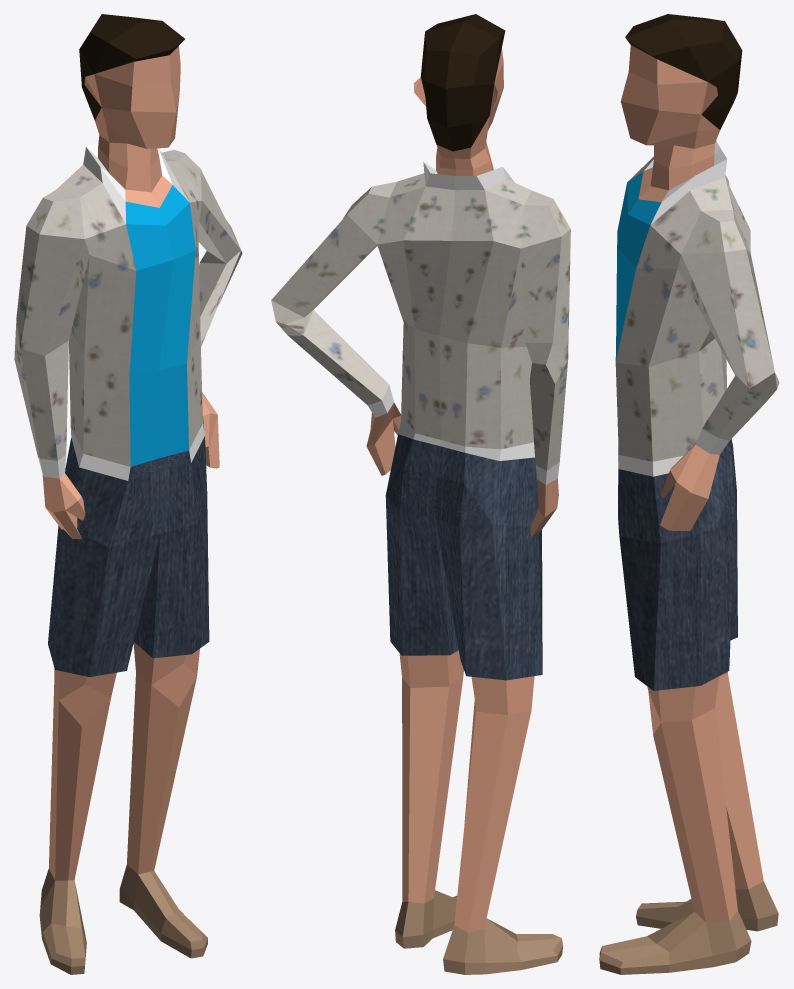
The model's file is SpringManA.009.glb.
The picture shows the model from 3 angles, left to right: view 1: azimuth 30°, elevation 25°; view 2: azimuth 150°, elevation 25°; view 3: azimuth 270°, elevation 25°; orthographic projection. The views are drawn at different scales.
Visible parts, largest first — view 1: SpringManA.009; view 2: SpringManA.009; view 3: SpringManA.009.
Part boxes in pixels (x1,y1,x2,y2): SpringManA.009: (14, 14, 242, 974); SpringManA.009: (271, 14, 570, 974); SpringManA.009: (599, 14, 779, 974).
Bounding box in the file's own units: 0.5104 × 1.77 × 0.3069.
1 material, 1 textured.
